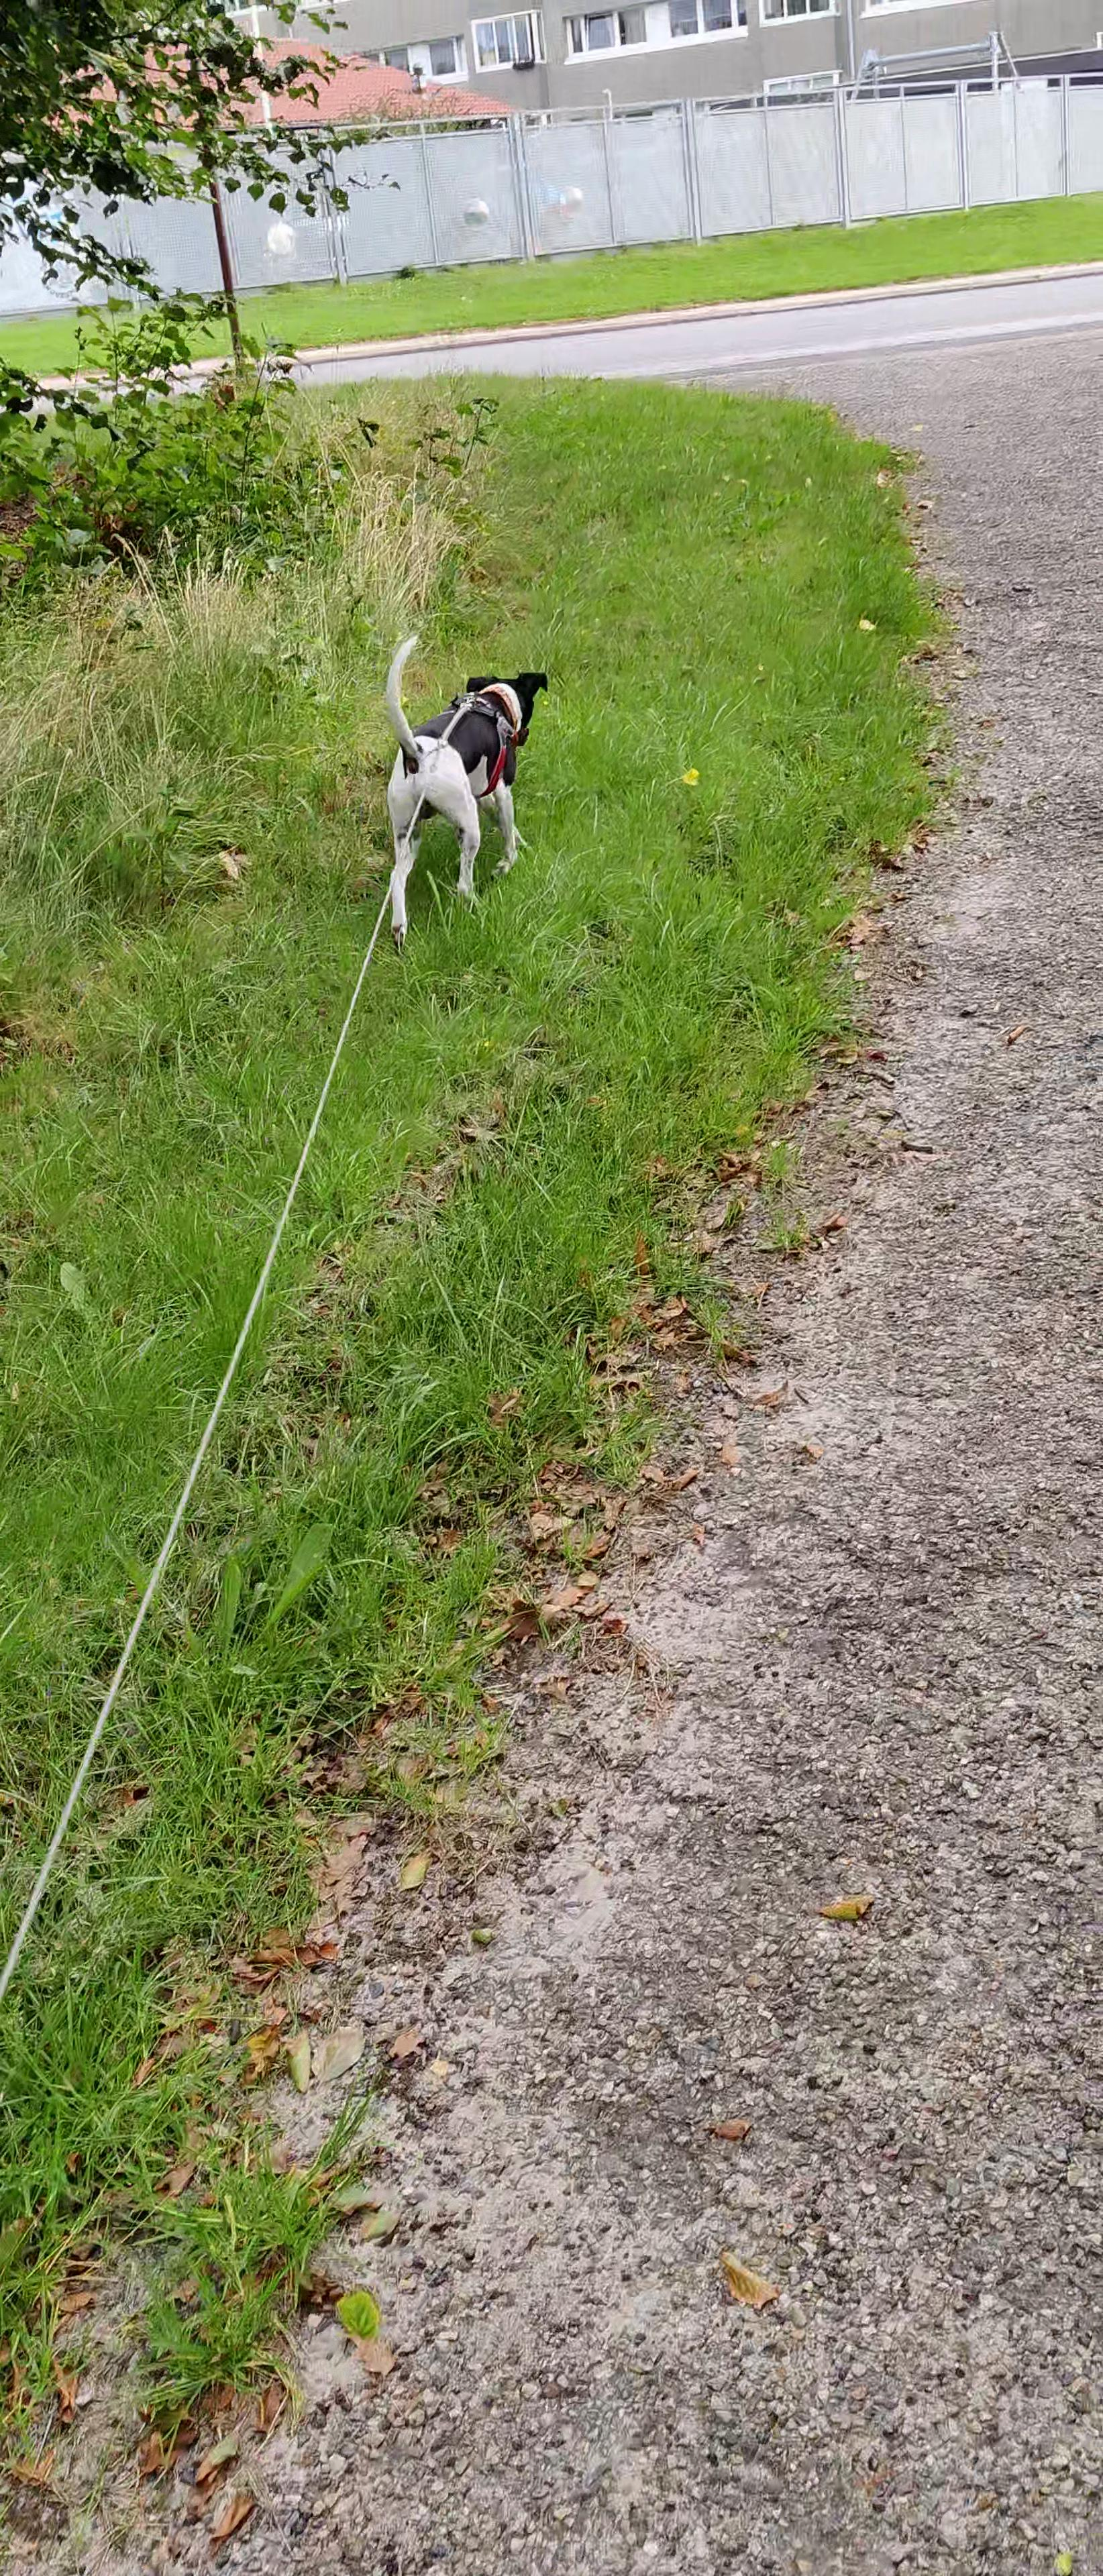Dog: (362, 629, 559, 956)
